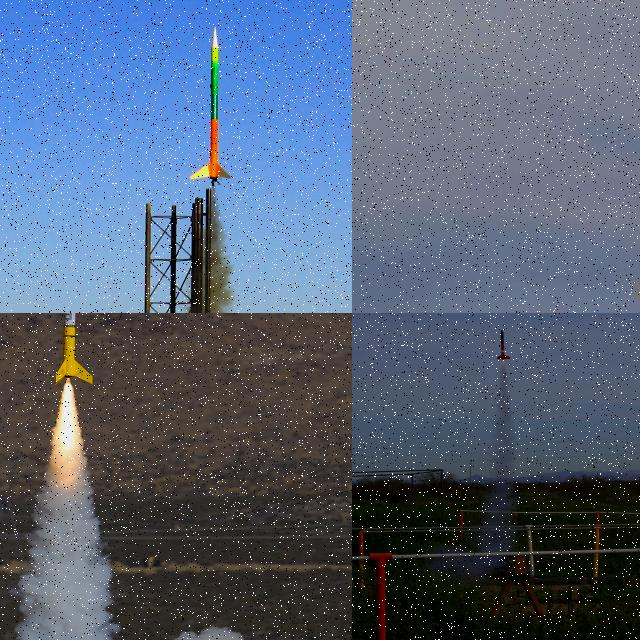Rocket: (189, 25, 234, 184), (54, 313, 93, 386), (496, 330, 511, 360)
